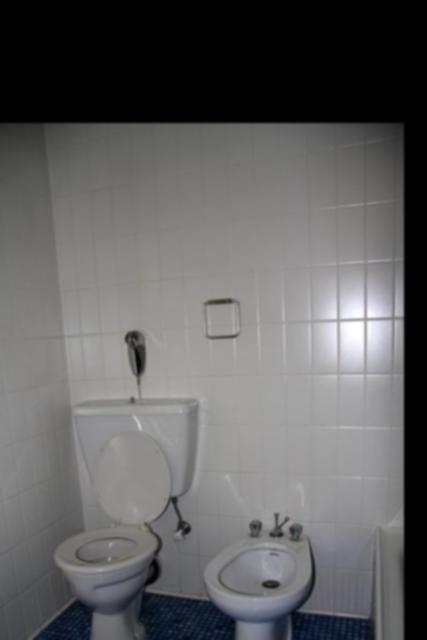Sanitario: (50, 391, 199, 640), (199, 526, 323, 640)
